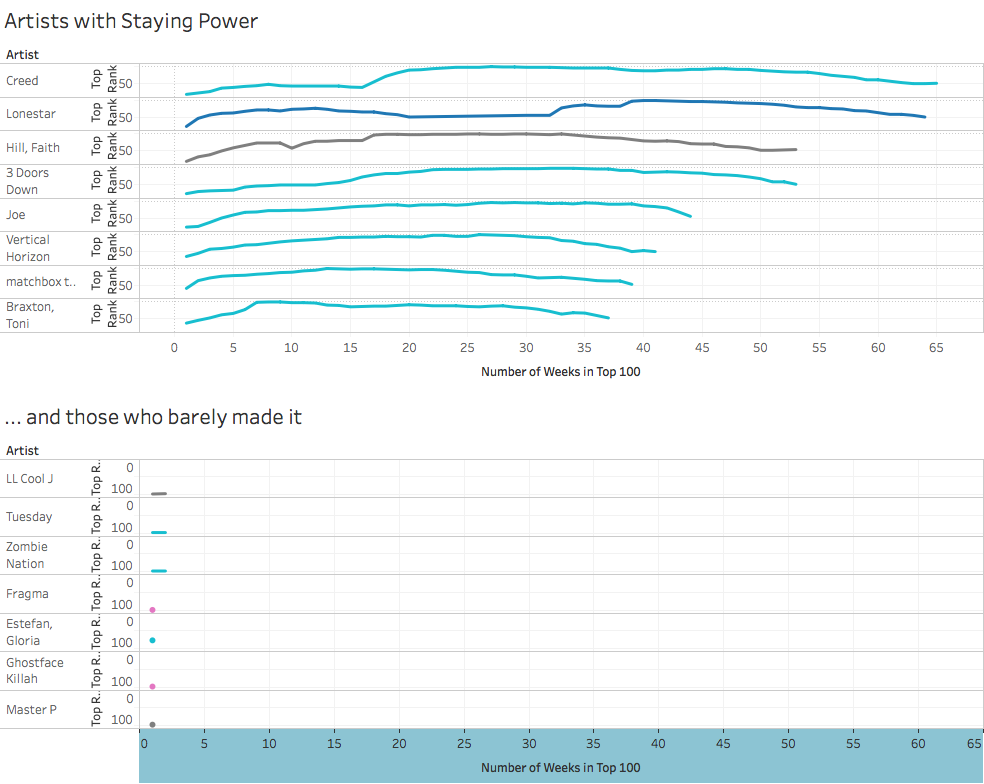

The dashboard page shown, as its layout file describes it:
{"tool":"tableau","page":{"name":"Dashboard 2","canvas":[1000,800],"ordinal":1},"visuals":[{"type":"worksheet","title":"Longest Stretch","mark":"Automatic","rows":["artist","Ranking"],"cols":["Week"],"box":[0,0,996,400]},{"type":"worksheet","title":"Shortest Stretch","mark":"Automatic","rows":["artist","Ranking"],"cols":["Week"],"box":[0,400,996,400]}]}

Visuals, with their boxes in screenshot pixels (x1, y1, x2, y2), scaled from the page's 1000x800 canvas onto the 984x784 screenshot:
"Longest Stretch" worksheet: x1=0 y1=0 x2=980 y2=392
"Shortest Stretch" worksheet: x1=0 y1=392 x2=980 y2=783
